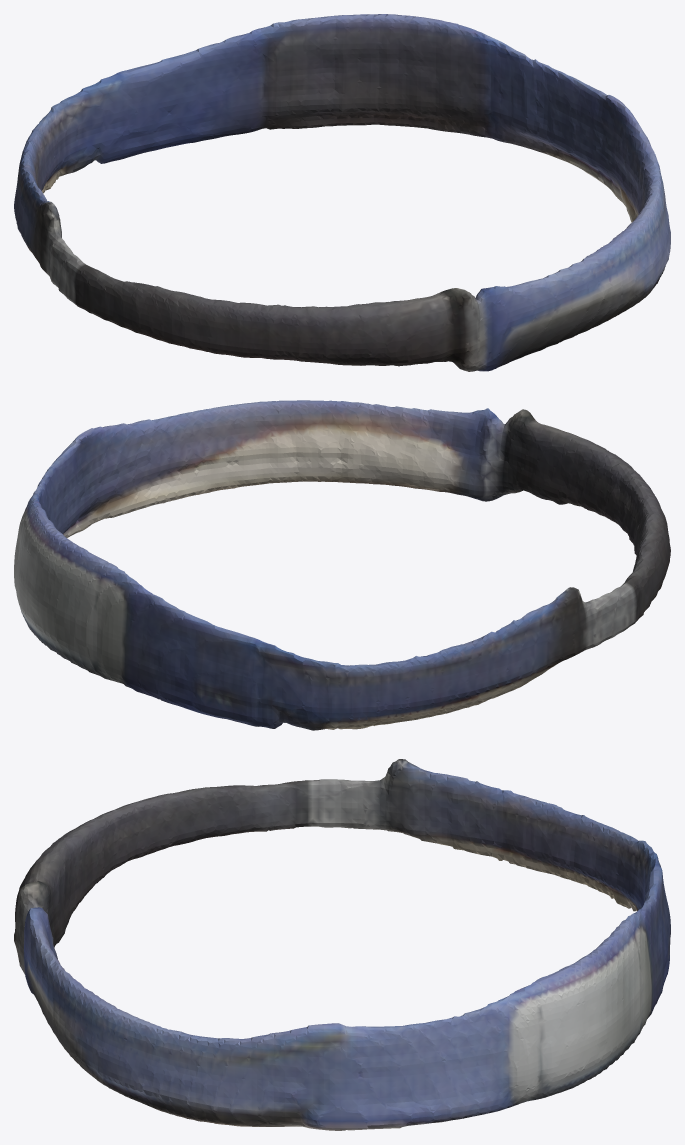
The model's file is muse_s.glb.
3 renders of one model, top to bottom at view 1: azimuth 30°, elevation 25°; view 2: azimuth 150°, elevation 25°; view 3: azimuth 270°, elevation 25°, orthographic. The views are drawn at different scales.
Parts seen in each view (by area): view 1: world; view 2: world; view 3: world.
Boxes of the visible parts, bbox=[...] form: world: bbox=[14, 14, 670, 371]; world: bbox=[14, 400, 670, 730]; world: bbox=[14, 759, 670, 1130].
Size of the model in its own units: 1.98 by 0.4027 by 1.93.
